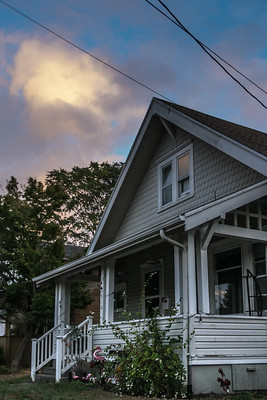medium: (27, 94, 267, 392)
